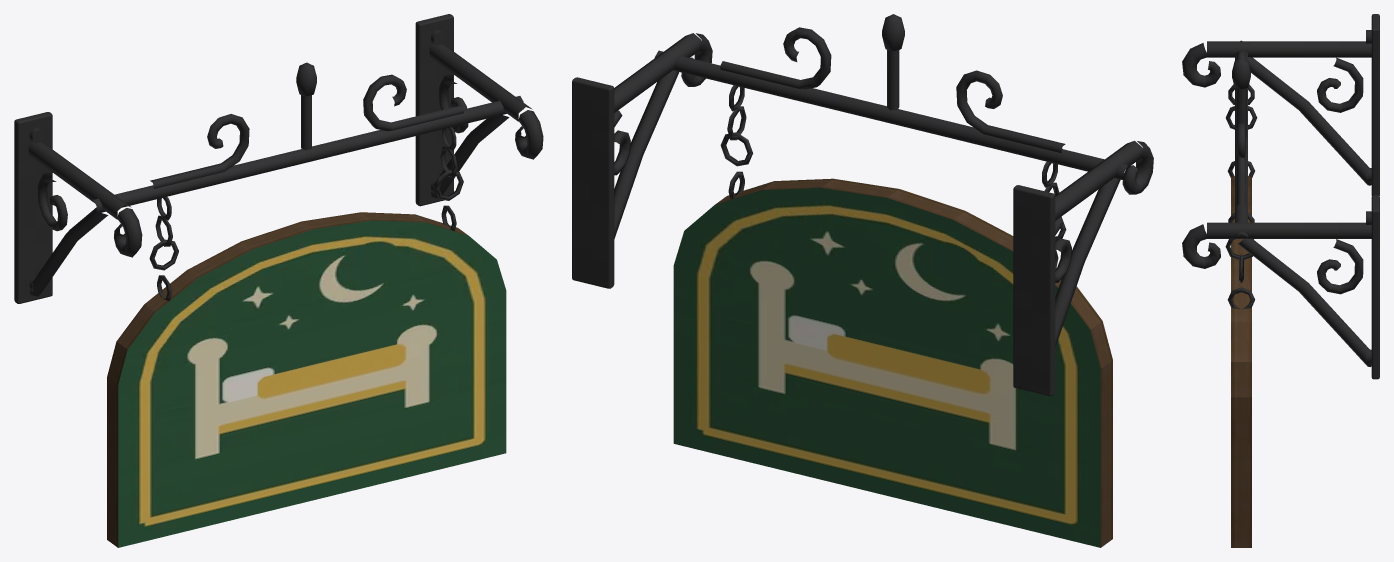
The model's file is sign_inn.glb.
The picture shows the model from 3 angles, left to right: view 1: azimuth 30°, elevation 25°; view 2: azimuth 150°, elevation 25°; view 3: azimuth 270°, elevation 25°; orthographic projection. The views are drawn at different scales.
Parts seen in each view (by area): view 1: prop; view 2: prop; view 3: prop.
Part boxes in pixels (<box>): prop: <box>14,14,543,547</box>; prop: <box>572,14,1153,547</box>; prop: <box>1182,14,1379,547</box>.
Size of what is drawn, in the model's own units: 0.675 by 0.641 by 0.2858.
3 materials, 3 textured.
